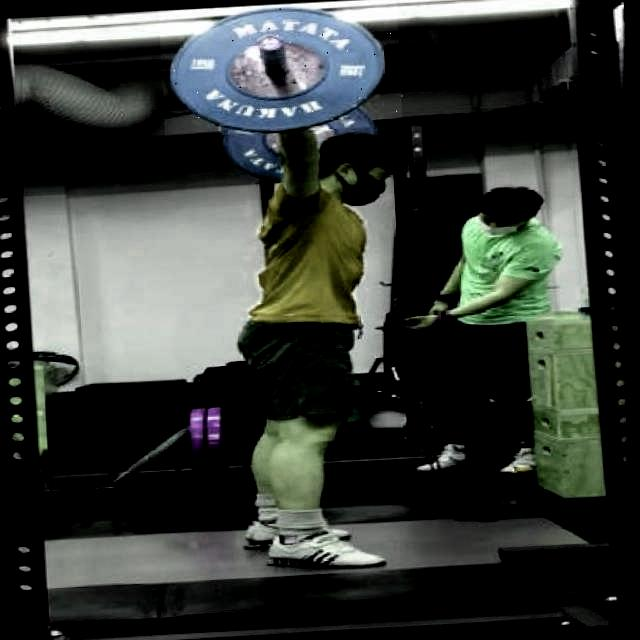barbell: (160, 1, 405, 138)
